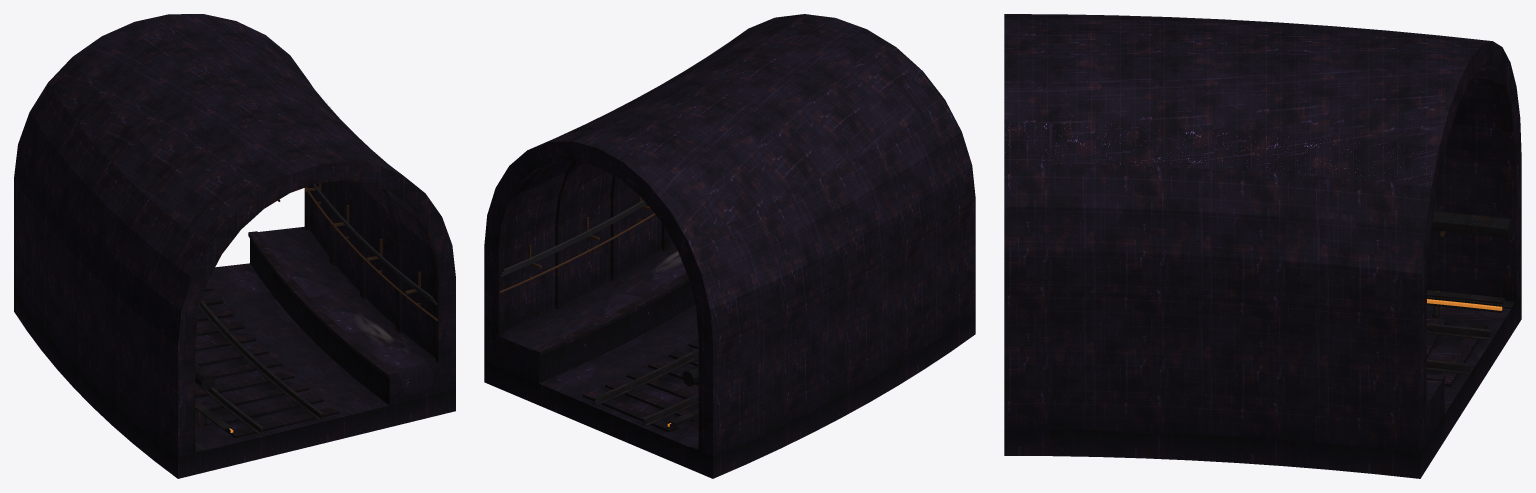
The model's file is tunnel_curve_r.glb.
The picture shows the model from 3 angles, left to right: view 1: azimuth 30°, elevation 25°; view 2: azimuth 150°, elevation 25°; view 3: azimuth 270°, elevation 25°; orthographic projection. The views are drawn at different scales.
Visible parts, largest first — view 1: body; view 2: body; view 3: body.
Boxes of the visible parts, box(x1,y1,x2,y2) form: body: box(14, 14, 455, 478); body: box(484, 14, 975, 478); body: box(1004, 14, 1521, 478).
Size of what is drawn, in the model's own units: 7.64 by 6.45 by 8.87.
14 materials, 10 textured.
